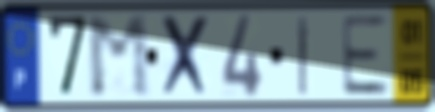4: (219, 12, 265, 101)
7: (46, 13, 89, 102)
E: (338, 13, 391, 99)
I: (295, 14, 311, 99)
M: (84, 12, 154, 101)
X: (159, 12, 213, 102)
